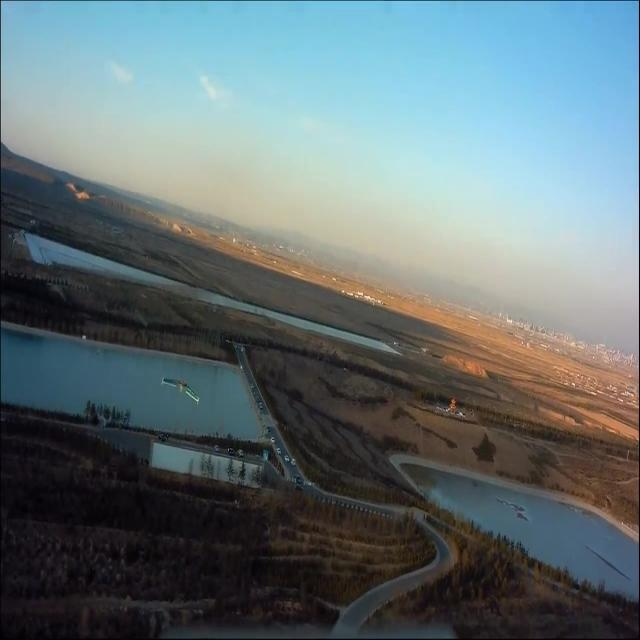iha: (159, 374, 200, 405)
